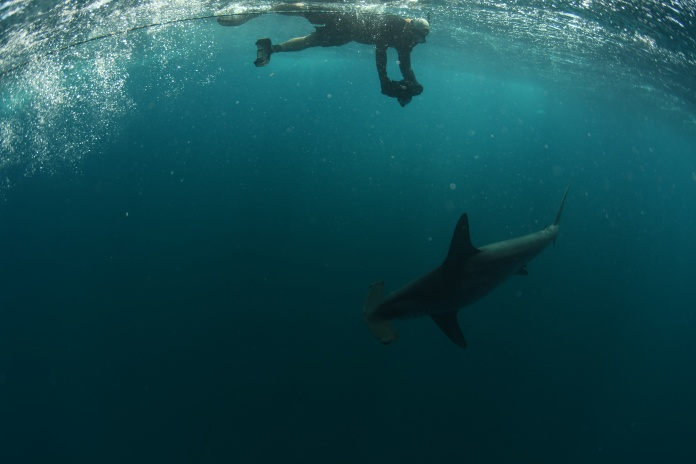Hammer: (323, 166, 605, 377)
